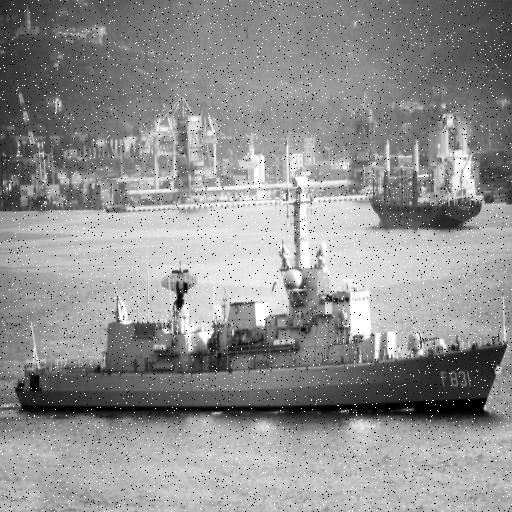Fragata: (12, 180, 512, 420)
